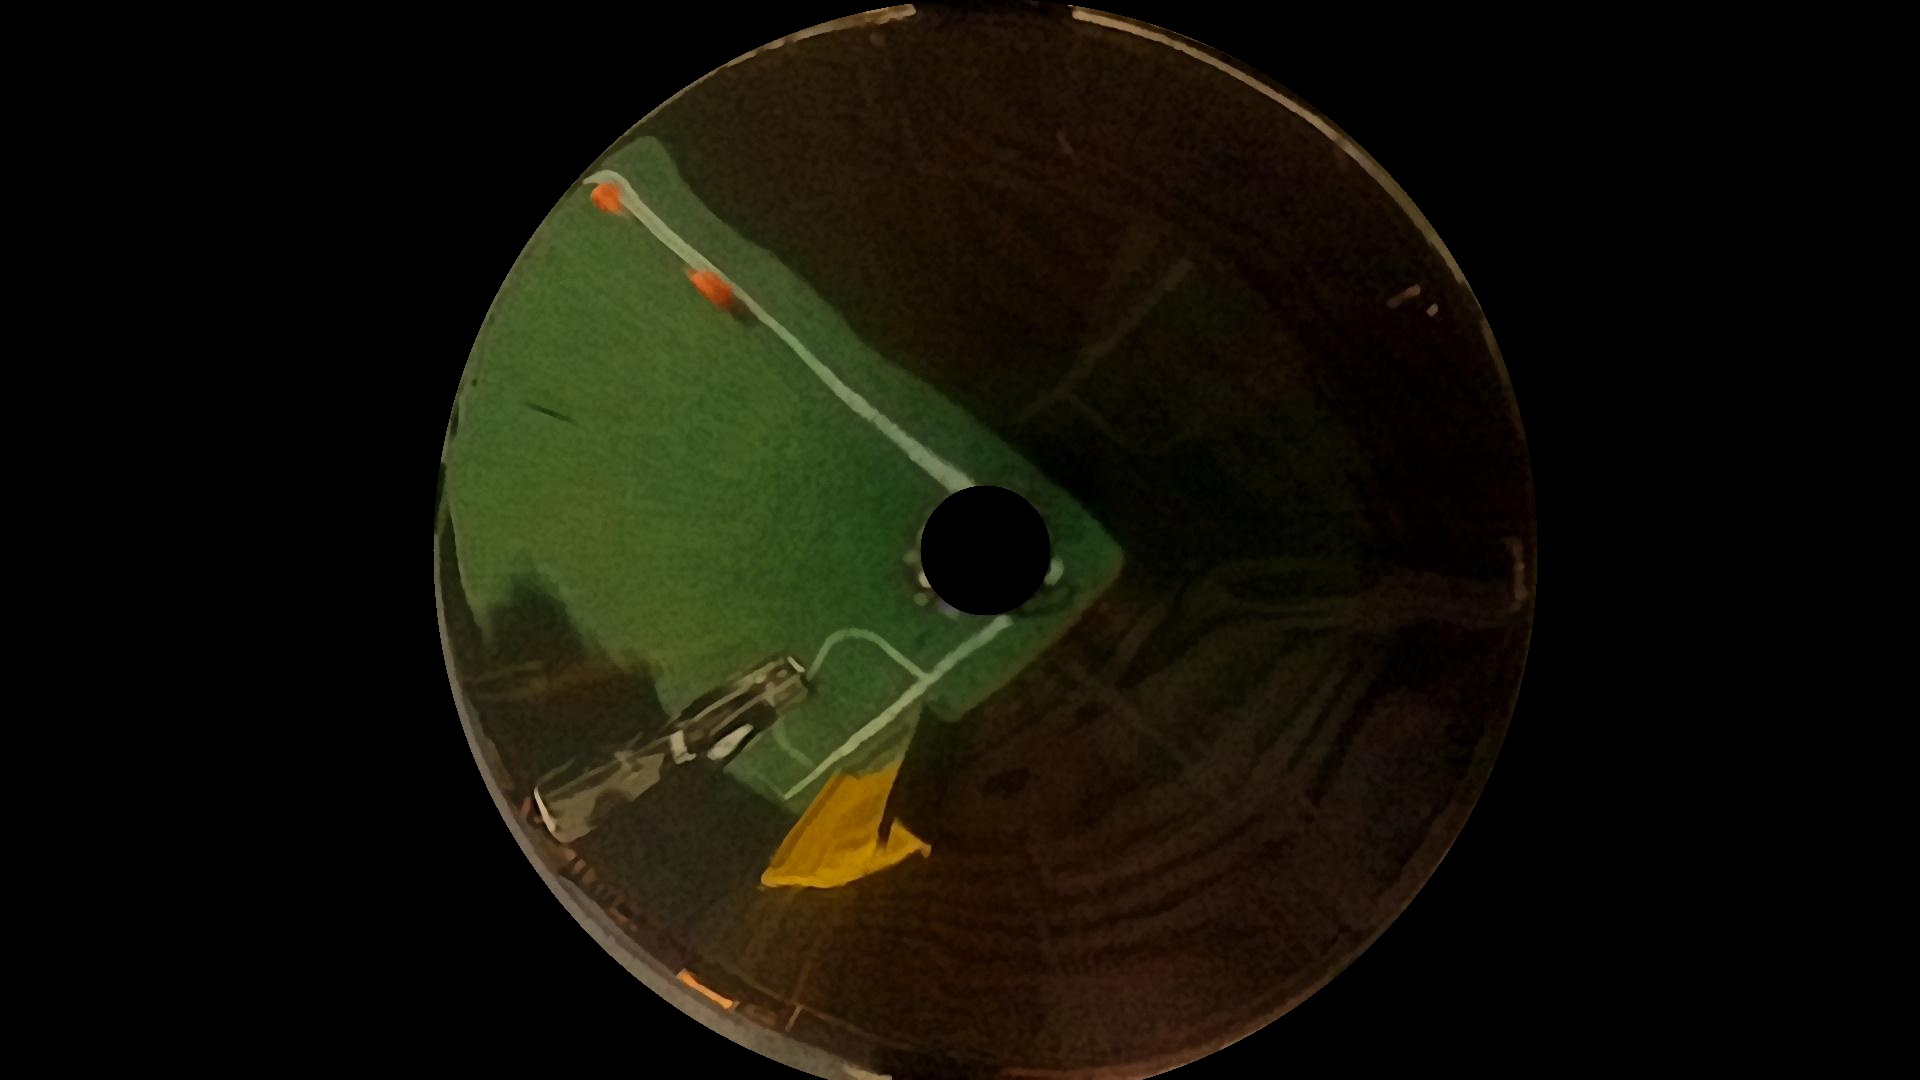ball: (688, 266, 733, 310)
robots: (673, 655, 803, 766)
yellow-goal: (764, 766, 926, 886)
